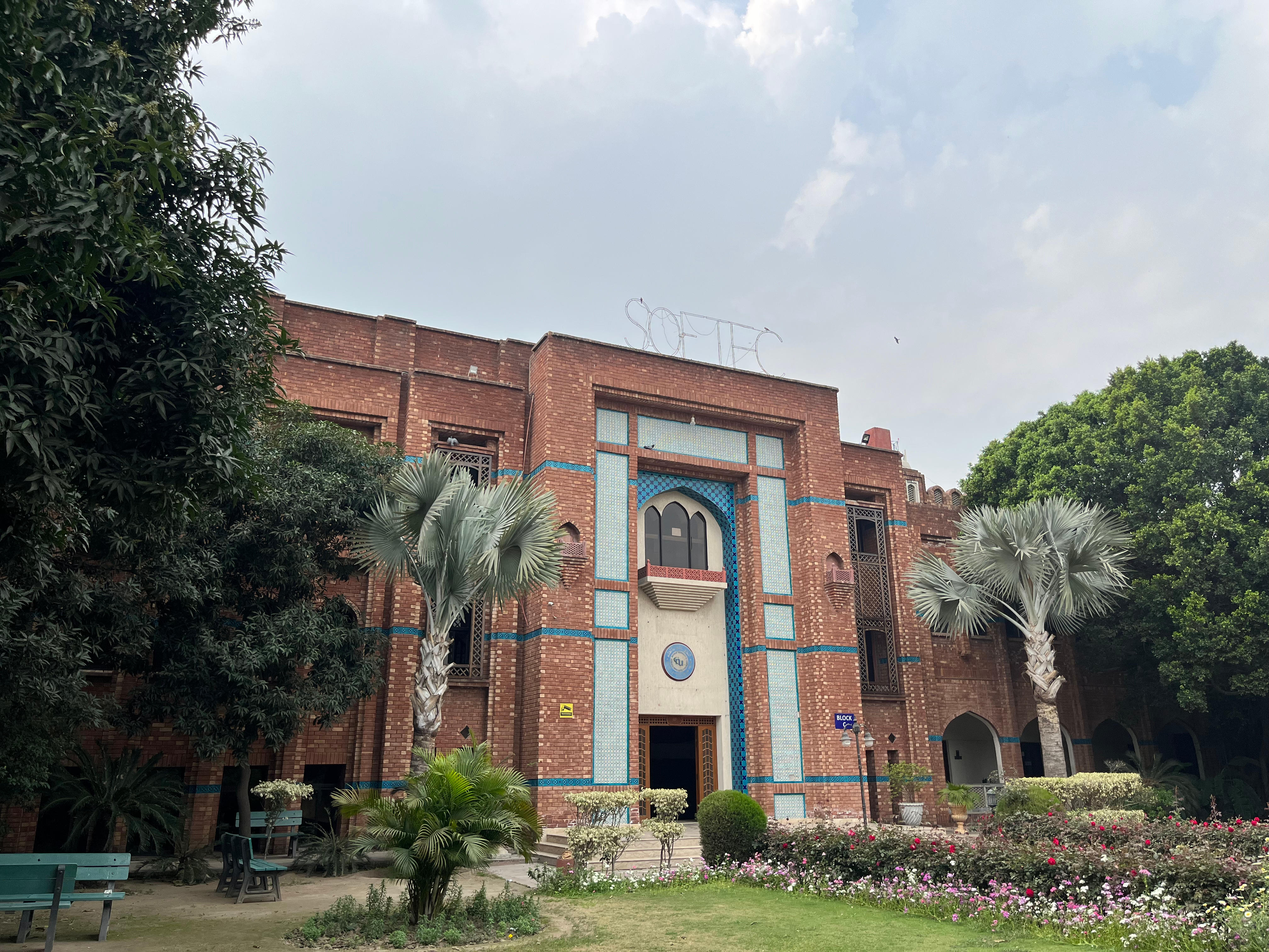Block C: (8, 292, 1269, 854)
